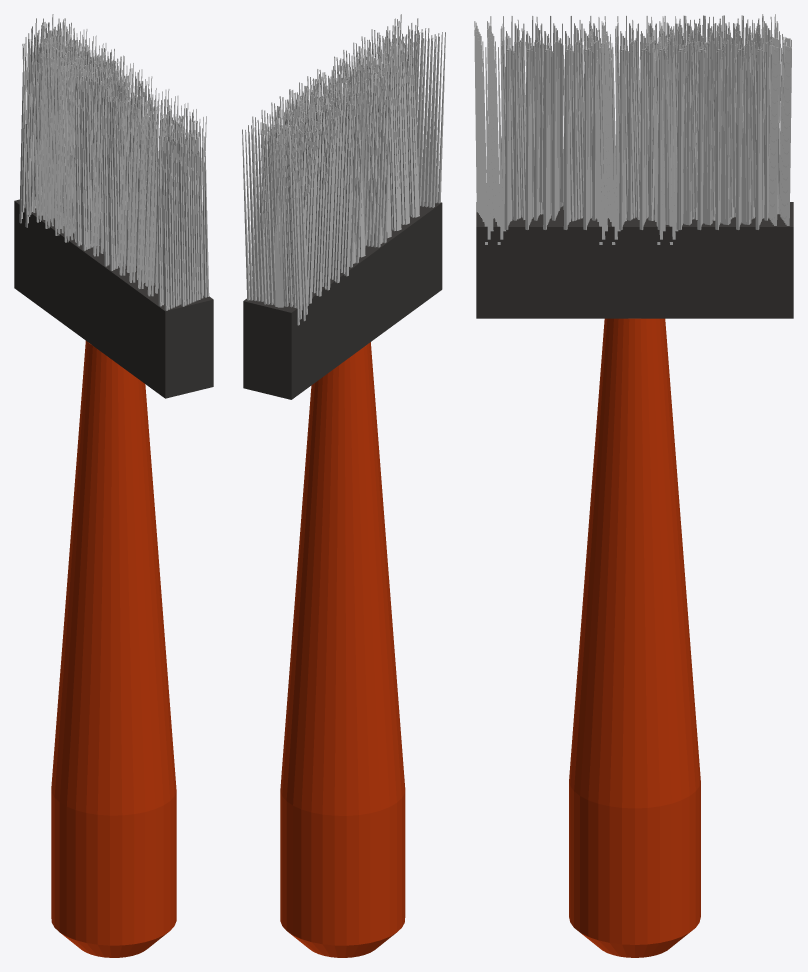
File: Kwastleeg.obj
3 views of the same model, side by side, from view 1: azimuth 30°, elevation 25°; view 2: azimuth 150°, elevation 25°; view 3: azimuth 270°, elevation 25° (orthographic). The views are drawn at different scales.
Parts seen in each view (by area): view 1: Cylinder, Cube.001_Cube, Cube_Cube.001; view 2: Cylinder, Cube.001_Cube, Cube_Cube.001; view 3: Cylinder, Cube.001_Cube, Cube_Cube.001.
Part boxes in pixels (x1,y1,x2,y2): Cylinder: (51, 341, 176, 957); Cube.001_Cube: (19, 14, 209, 310); Cube_Cube.001: (14, 199, 213, 398); Cylinder: (280, 342, 405, 957); Cube.001_Cube: (242, 14, 445, 325); Cube_Cube.001: (243, 202, 442, 399); Cylinder: (569, 318, 700, 957); Cube.001_Cube: (474, 14, 791, 244); Cube_Cube.001: (476, 202, 793, 318).
Bounding box in the file's own units: 2 × 15.44 × 4.84.
